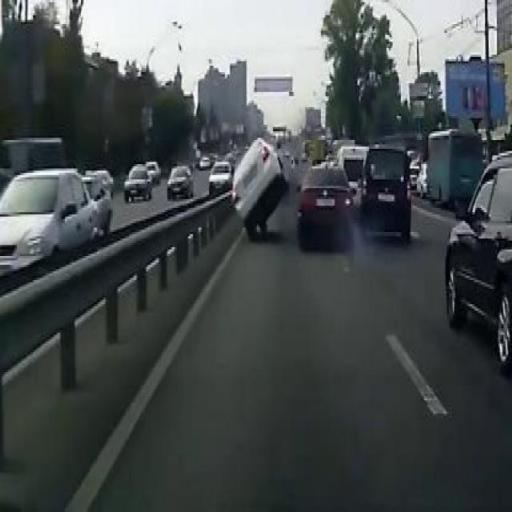小汽车: (447, 158, 510, 356), (2, 172, 108, 256), (231, 134, 287, 235), (362, 148, 413, 236), (300, 163, 350, 235), (164, 165, 198, 197), (204, 158, 231, 196), (125, 164, 150, 203)
